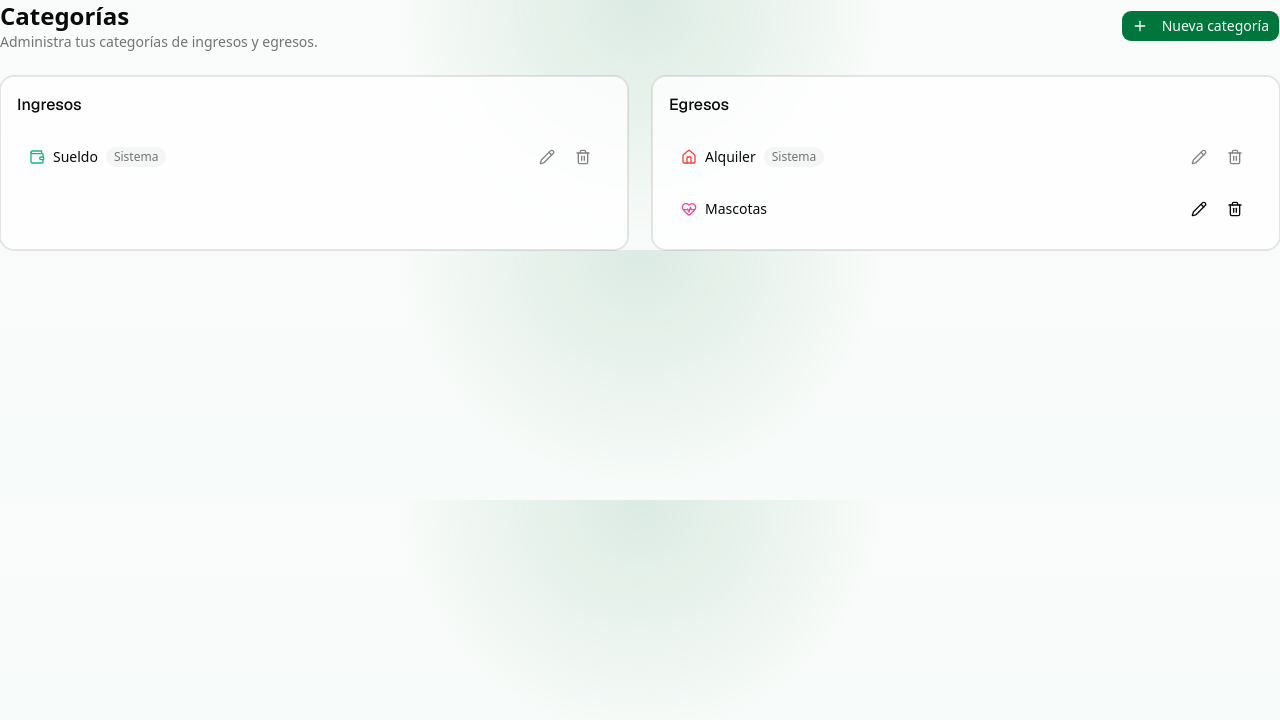
Test case: CategoriesPage › agrupa categorías por tipo y permite abrir el formulario de creación
Expected: the text "Sueldo" is shown, [53,147,98,167]
Expected: the text "Alquiler" is shown, [705,147,756,167]
Click the button "Nueva categoría": (1200, 26) [1121,10,1279,42]
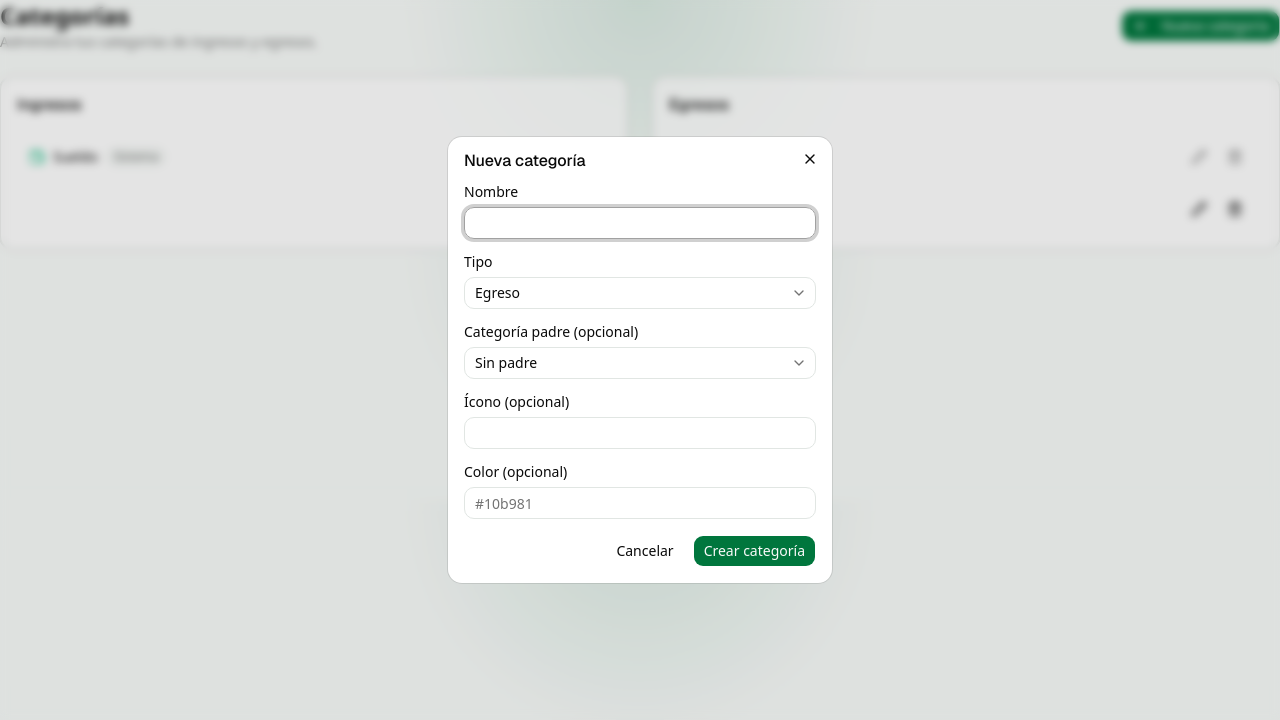
Now the dialog is shown, box [448,137,832,583]
Now the heading "Nueva categoría" is shown, box [464,150,585,171]
